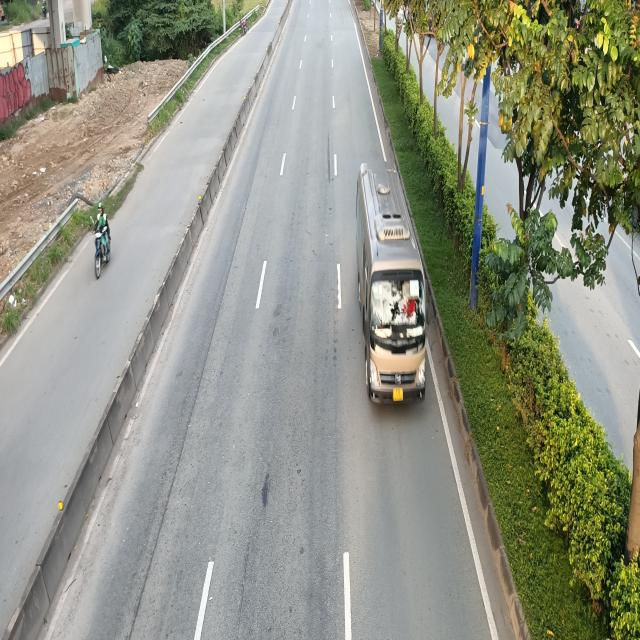coach: (356, 159, 431, 404)
